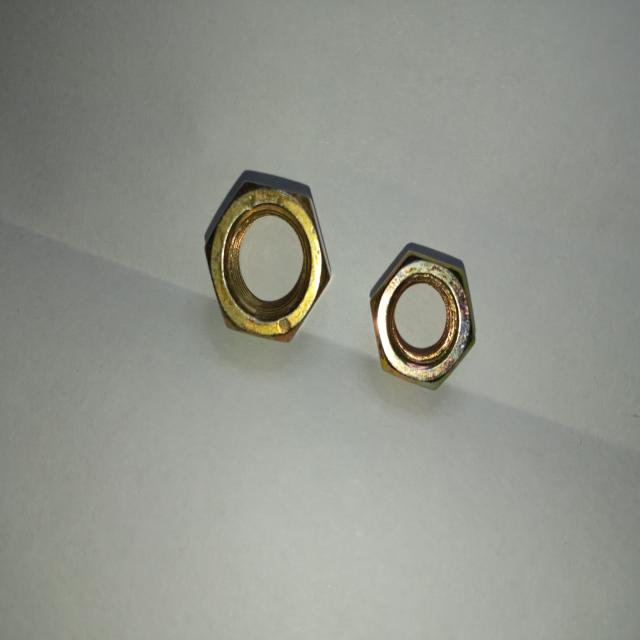m10: (202, 182, 322, 338)
m8: (368, 252, 473, 387)
